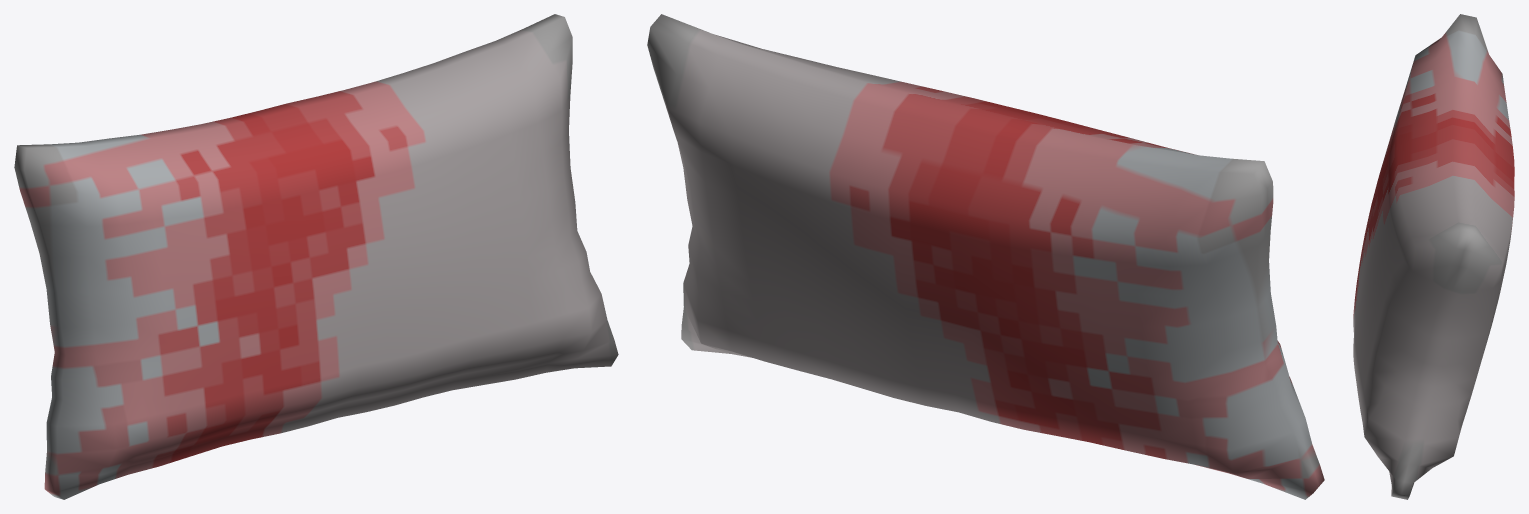
The model's file is koltuk_yastik_pixel_1.fbx.
3 views of the same model, side by side, from view 1: azimuth 30°, elevation 25°; view 2: azimuth 150°, elevation 25°; view 3: azimuth 270°, elevation 25° (orthographic). The views are drawn at different scales.
Parts seen in each view (by area): view 1: koltuk_yastik_pixel_1; view 2: koltuk_yastik_pixel_1; view 3: koltuk_yastik_pixel_1.
Boxes of the visible parts, <box> form: koltuk_yastik_pixel_1: <box>14,14,618,499</box>; koltuk_yastik_pixel_1: <box>647,14,1324,499</box>; koltuk_yastik_pixel_1: <box>1353,14,1514,499</box>.
Size of the model in its own units: 127 by 70.07 by 38.3.
